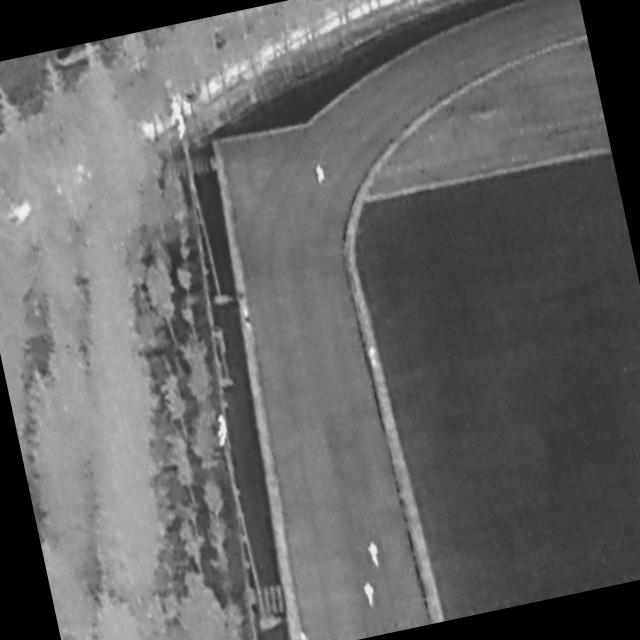person: (367, 539, 384, 571), (362, 580, 379, 612), (366, 344, 381, 370), (314, 162, 328, 186), (243, 306, 255, 333), (296, 629, 312, 640)
